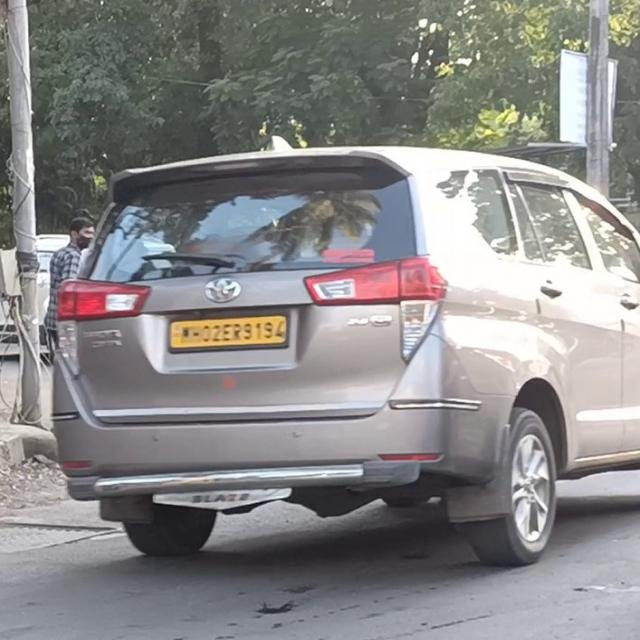Plate: (168, 314, 287, 344)
